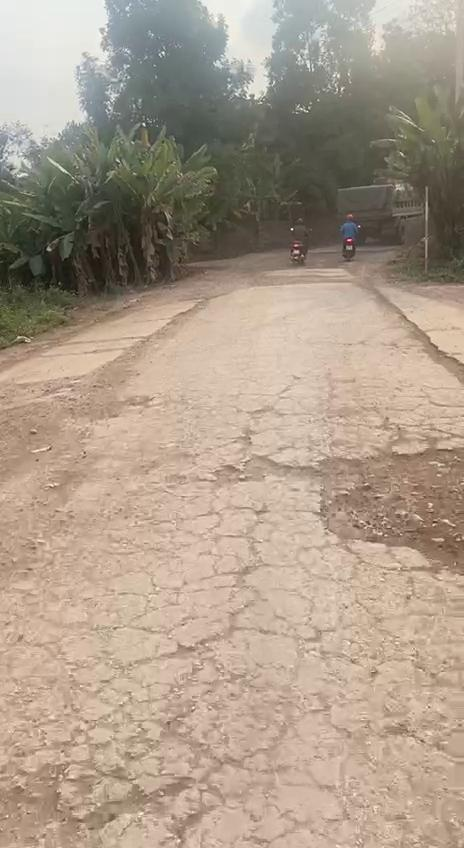pothole: (291, 438, 464, 578), (0, 753, 161, 848), (206, 447, 322, 486)
